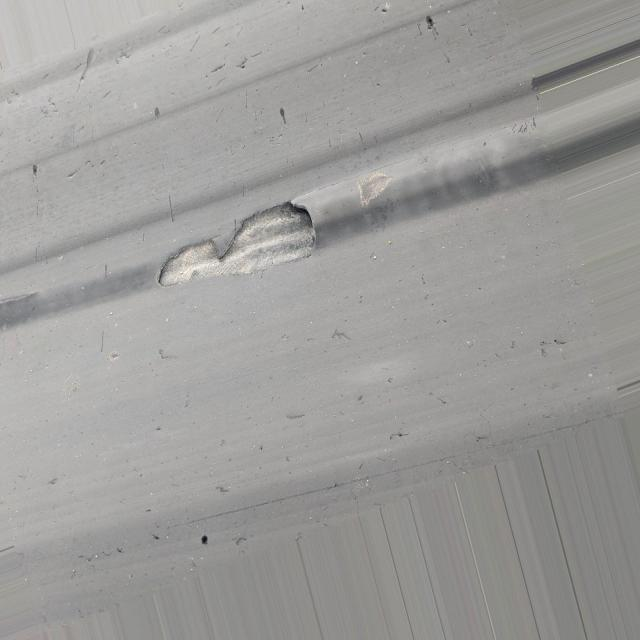Impact Damage: (142, 187, 328, 302)
Puncture: (20, 159, 48, 182), (418, 10, 444, 33), (195, 529, 213, 550)
